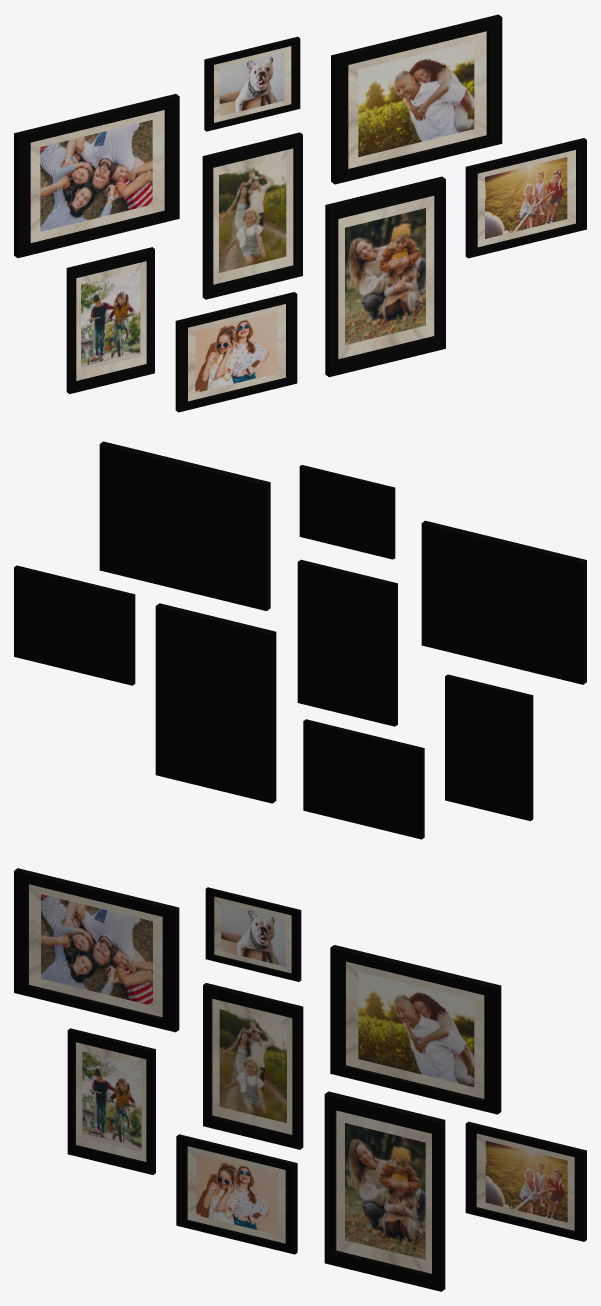
The model's file is figura foto.fbx.
3 views of the same model, one above another, from view 1: azimuth 30°, elevation 25°; view 2: azimuth 150°, elevation 25°; view 3: azimuth 330°, elevation 25° (orthographic).
Parts seen in each view (by area): view 1: photo.010, photo.006, photo.008, photo_frame.010, photo_frame.008, photo_frame.006, photo.007, photo_frame.007, photo.009, photo.011, photo.004, paper.010 (+12 smaller); view 2: photo_frame.010, photo_frame.008, photo_frame.006, photo_frame.007, photo_frame.004, photo_frame.009, photo_frame.011, photo_frame.005; view 3: photo.010, photo.008, photo.006, photo_frame.010, photo_frame.008, photo_frame.006, photo.007, photo_frame.007, photo.009, photo.011, photo.004, paper.010 (+12 smaller).
Boxes of the visible parts, <box> form: photo.010: <box>358,41,474,156</box>; photo.006: <box>40,120,152,231</box>; photo.008: <box>345,208,425,344</box>; photo_frame.010: <box>331,14,502,184</box>; photo_frame.008: <box>325,176,445,377</box>; photo_frame.006: <box>14,94,179,257</box>; photo.007: <box>219,159,286,272</box>; photo_frame.007: <box>202,132,302,299</box>; photo.009: <box>485,157,567,238</box>; photo.011: <box>195,311,277,392</box>; photo.004: <box>81,270,140,370</box>; paper.010: <box>348,31,486,168</box>; photo_frame.010: <box>99,441,270,610</box>; photo_frame.008: <box>155,603,276,803</box>; photo_frame.006: <box>421,520,586,684</box>; photo_frame.007: <box>297,559,397,726</box>; photo_frame.004: <box>445,674,533,821</box>; photo_frame.009: <box>14,565,135,685</box>; photo_frame.011: <box>303,719,424,839</box>; photo_frame.005: <box>299,465,395,559</box>; photo.010: <box>358,971,474,1086</box>; photo.008: <box>345,1123,425,1259</box>; photo.006: <box>41,894,152,1005</box>; photo_frame.010: <box>330,945,501,1114</box>; photo_frame.008: <box>324,1091,445,1291</box>; photo_frame.006: <box>14,868,179,1032</box>; photo.007: <box>219,1009,286,1122</box>; photo_frame.007: <box>203,983,303,1149</box>; photo.009: <box>485,1141,567,1222</box>; photo.011: <box>196,1153,278,1234</box>; photo.004: <box>82,1051,141,1151</box>; paper.010: <box>346,961,484,1098</box>.
Size of the model in its own units: 322 by 186 by 3.78.
Materials: 3 (2 with a texture image).
